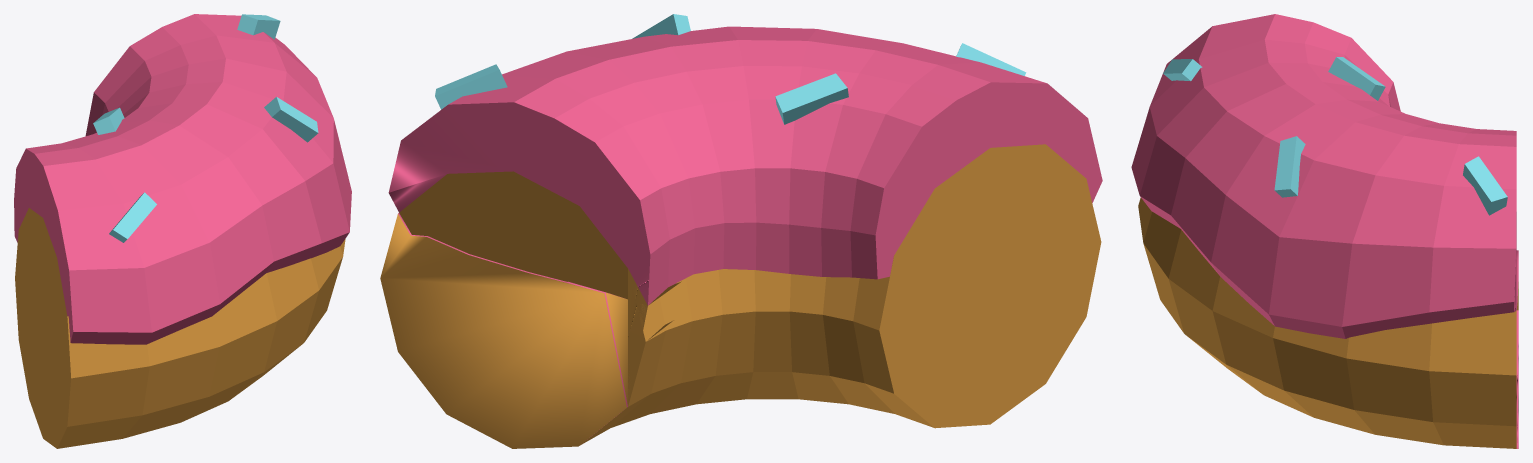
The model's file is donut30.fbx.
3 renders of one model, left to right at view 1: azimuth 30°, elevation 25°; view 2: azimuth 150°, elevation 25°; view 3: azimuth 270°, elevation 25°, orthographic. The views are drawn at different scales.
Visible parts, largest first — view 1: Donut_01; view 2: Donut_01; view 3: Donut_01.
Boxes of the visible parts, x1=… form: Donut_01: x1=14, y1=14, x2=351, y2=448; Donut_01: x1=380, y1=14, x2=1102, y2=448; Donut_01: x1=1131, y1=14, x2=1518, y2=448.
Size of the model in its own units: 632 by 423 by 501.
